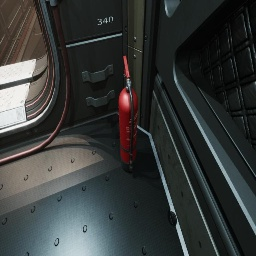FireExtinguisher ]: (118, 56, 138, 172)
